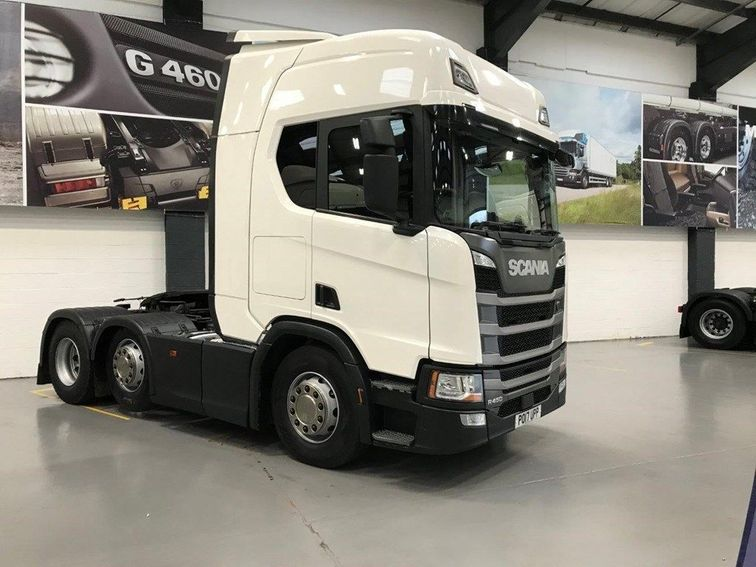Semi: (36, 29, 567, 469)
